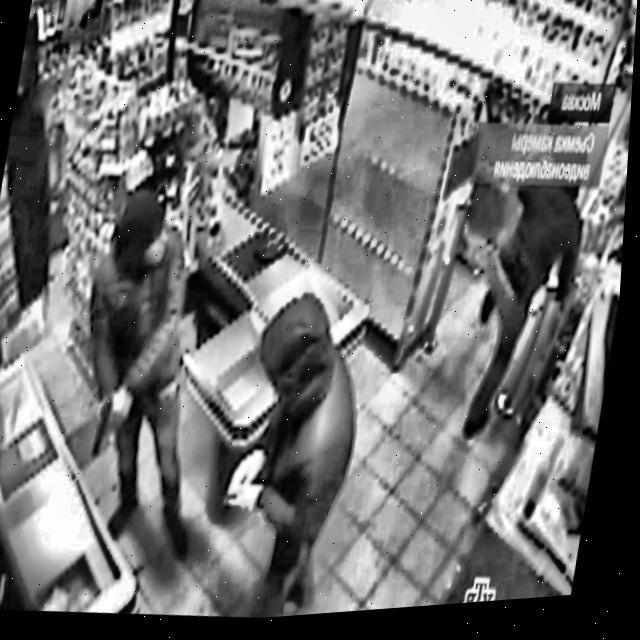robbery: (82, 174, 364, 616)
